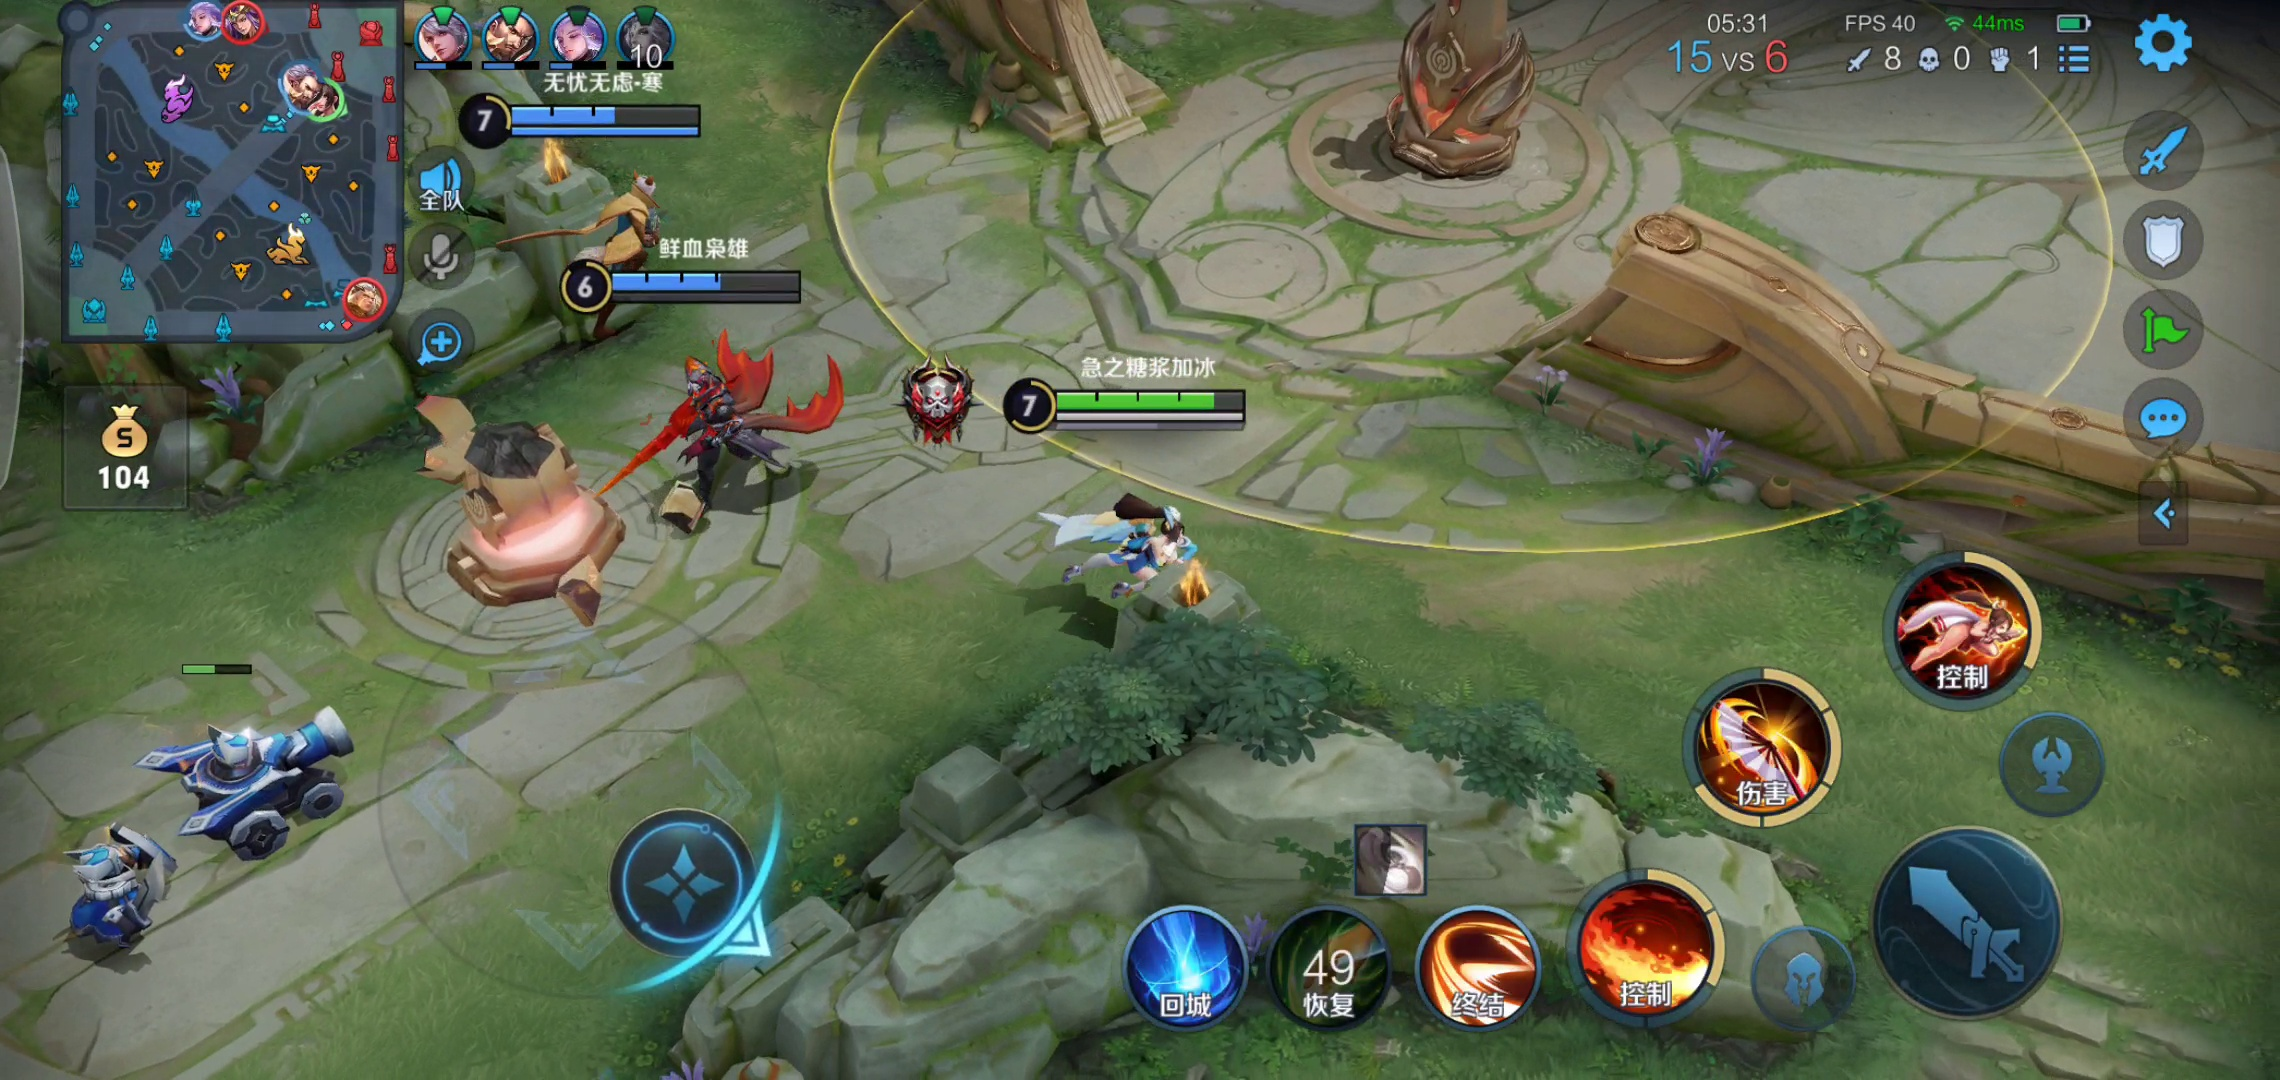hero: (510, 169, 710, 323), (1040, 480, 1239, 631), (637, 355, 819, 503)
soldier: (145, 701, 381, 850), (47, 833, 180, 951)
tower: (388, 398, 646, 632), (1367, 1, 1573, 199)
